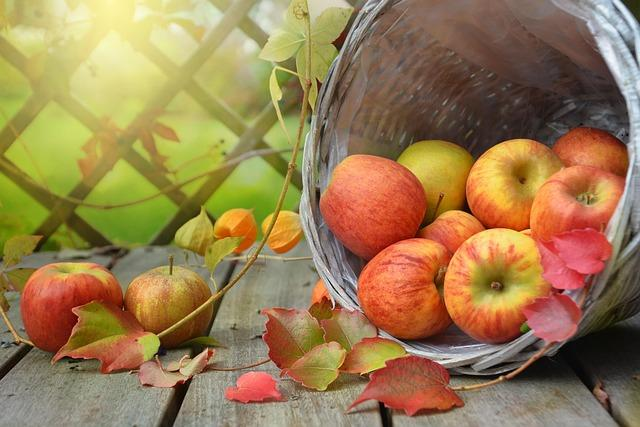Non_Gorille: (0, 1, 640, 427)
